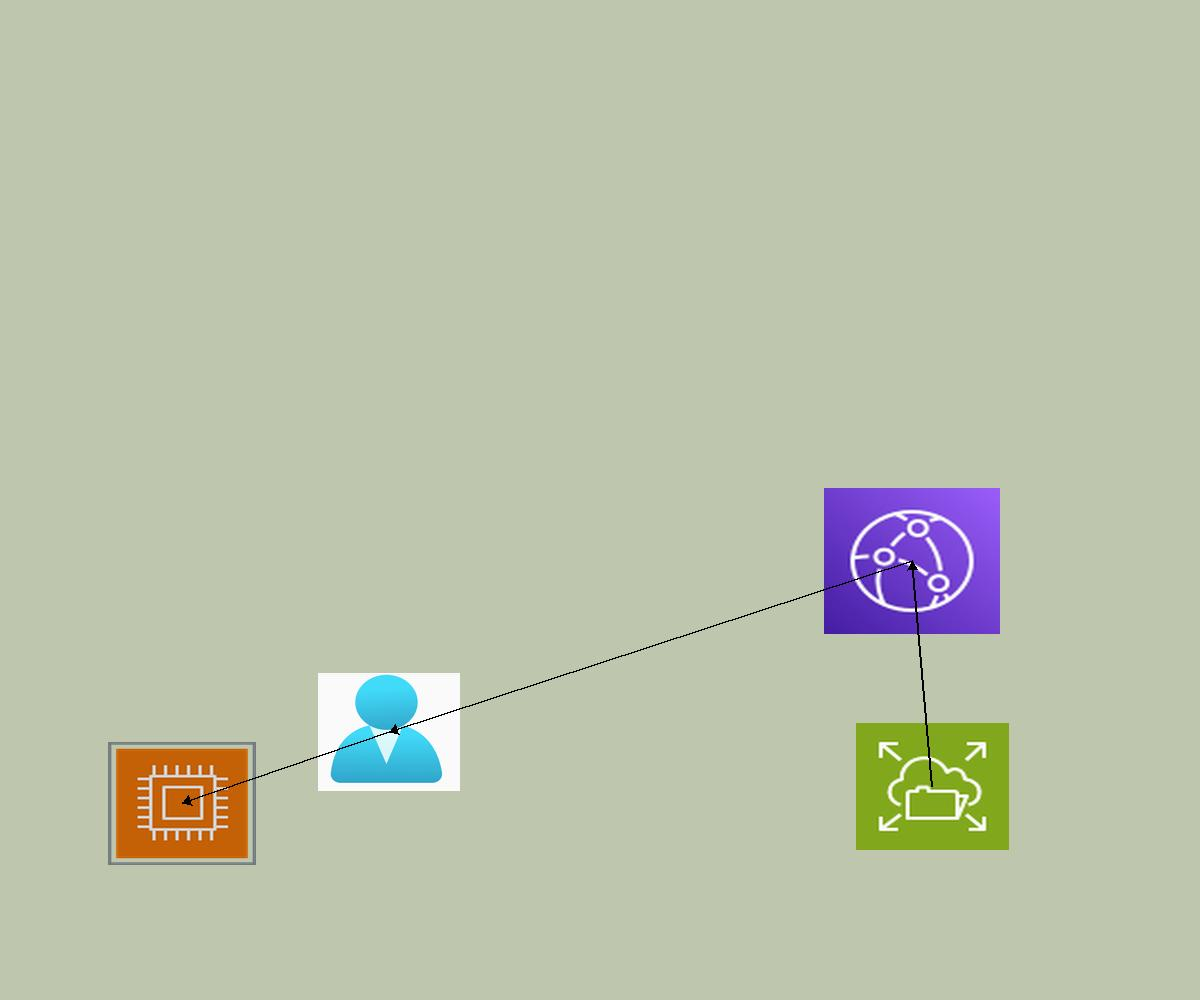AWS-Category_Compute: (108, 742, 256, 865)
AWS-CloudFront: (824, 488, 1000, 634)
AWS-EFS: (856, 723, 1009, 850)
Azure_users: (318, 673, 460, 791)
